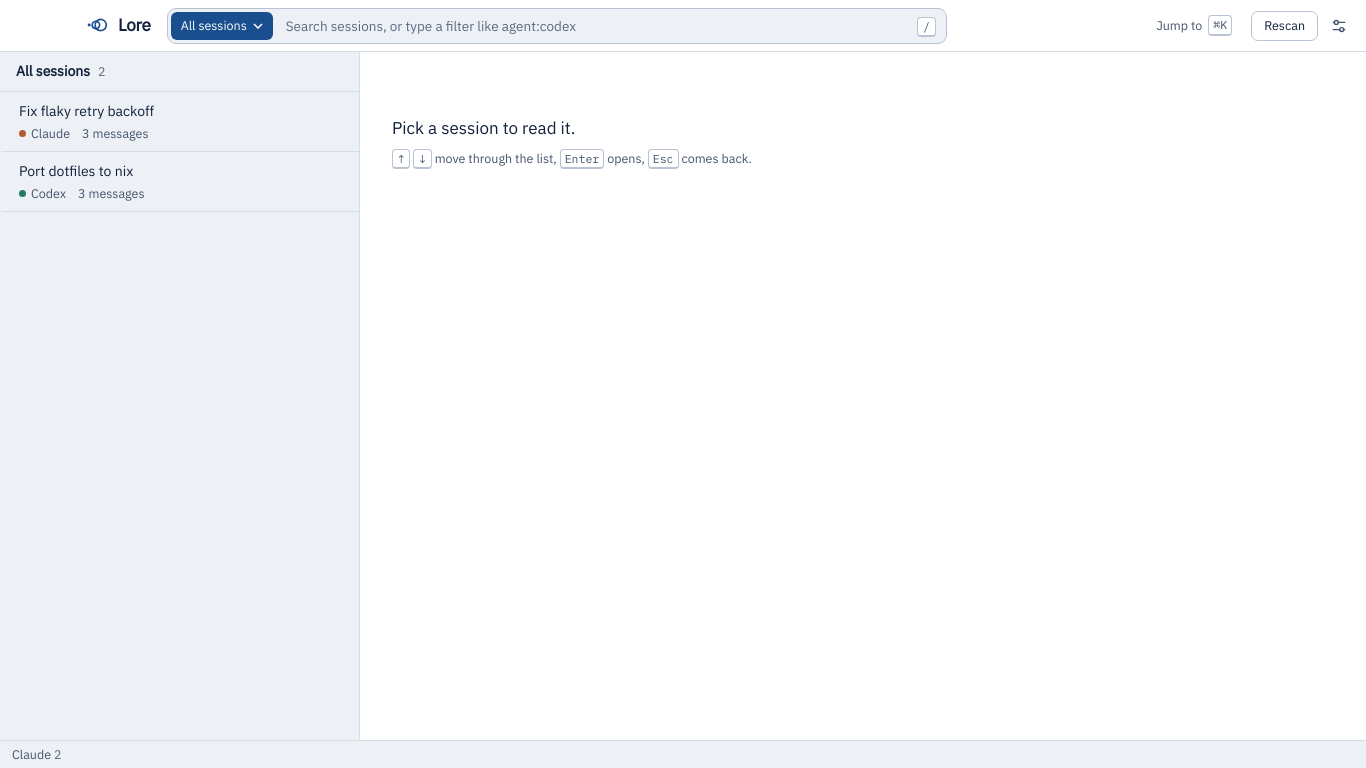
keyboard › opens the palette with ⌘K and jumps to a session
The width and height of the screenshot is (1366, 768).
Expected: the option "Fix flaky retry backoff Claude 3 messages" is shown, 0,92 -> 359,152
Press k
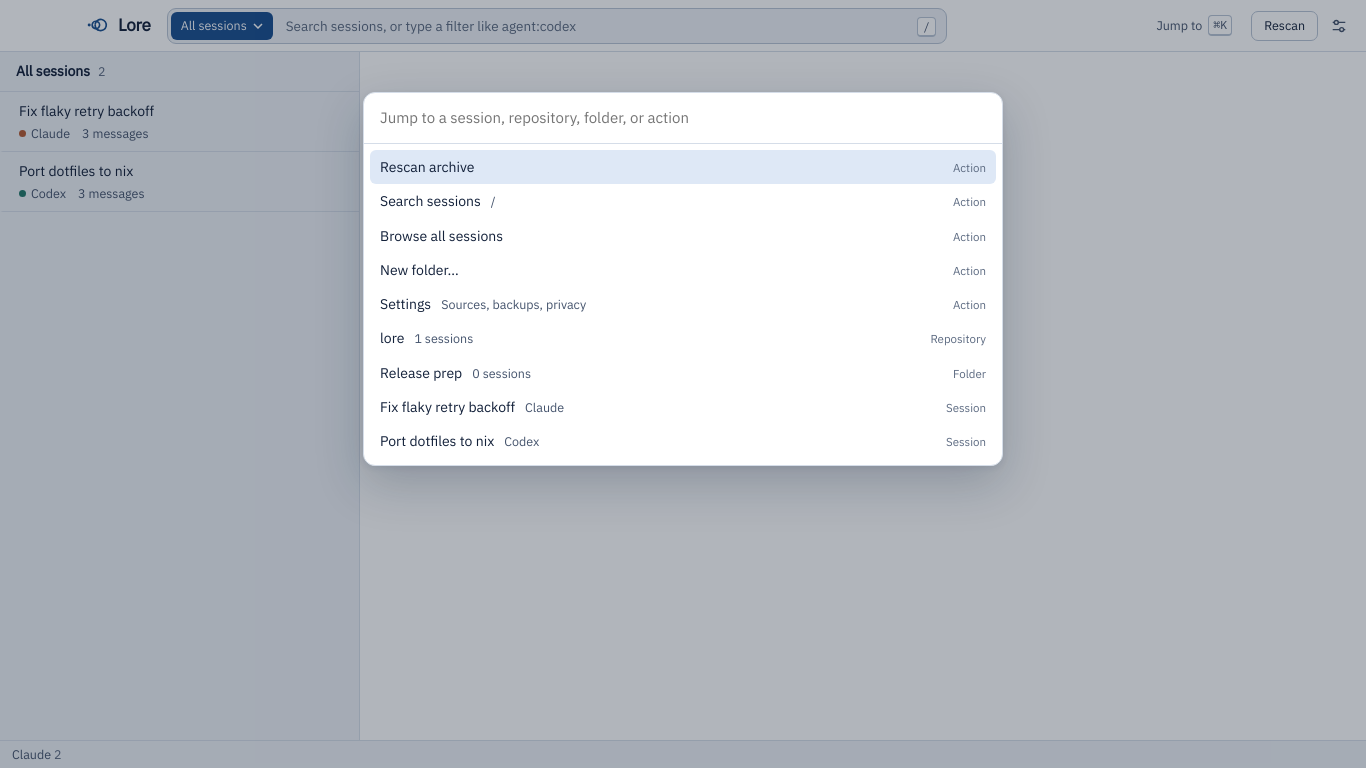
Type "dotfiles" into the dropdown labelled "Jump to a session, repository, folder, or action" at (683, 119), box 364,93 -> 1002,144
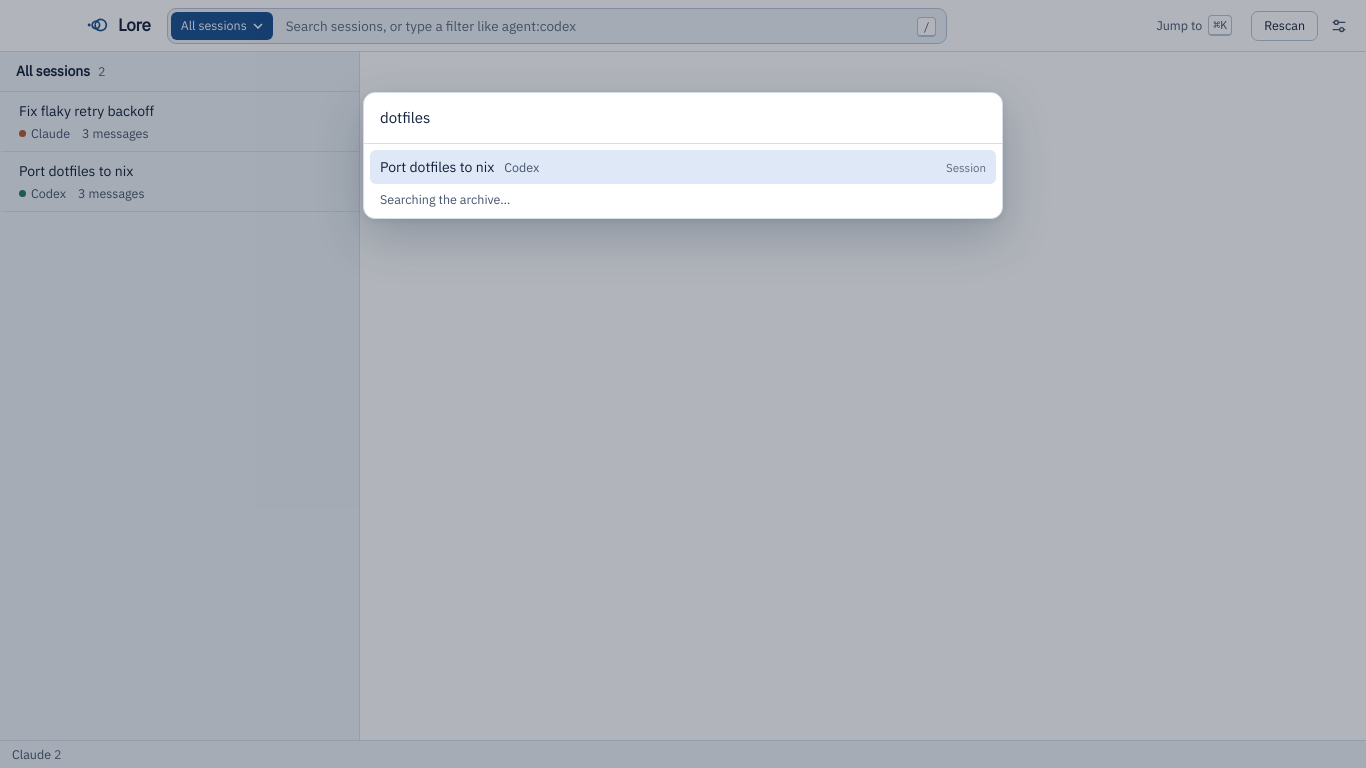
Press Enter in the dropdown named "Jump to a session", box 364,93 -> 1002,144
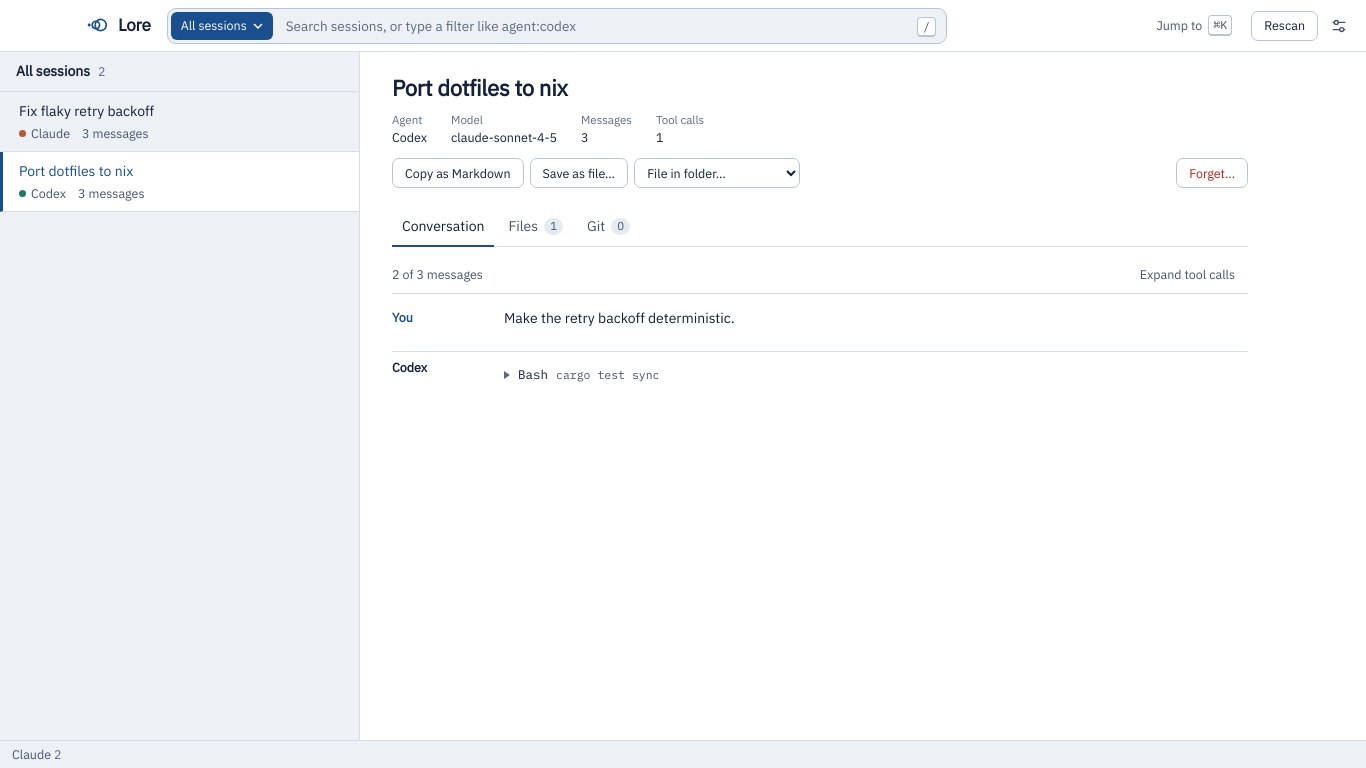
Expected: the element "Port dotfiles to nix" is shown, 360,52 -> 1280,449
Expected: the dialog "Command palette" is gone
